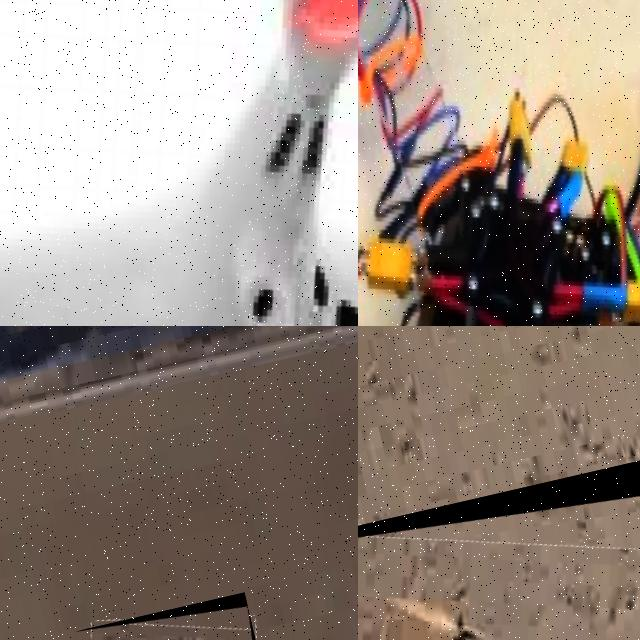0: (358, 451, 640, 640), (74, 591, 276, 640)
drone: (0, 0, 358, 326), (358, 0, 640, 326)
